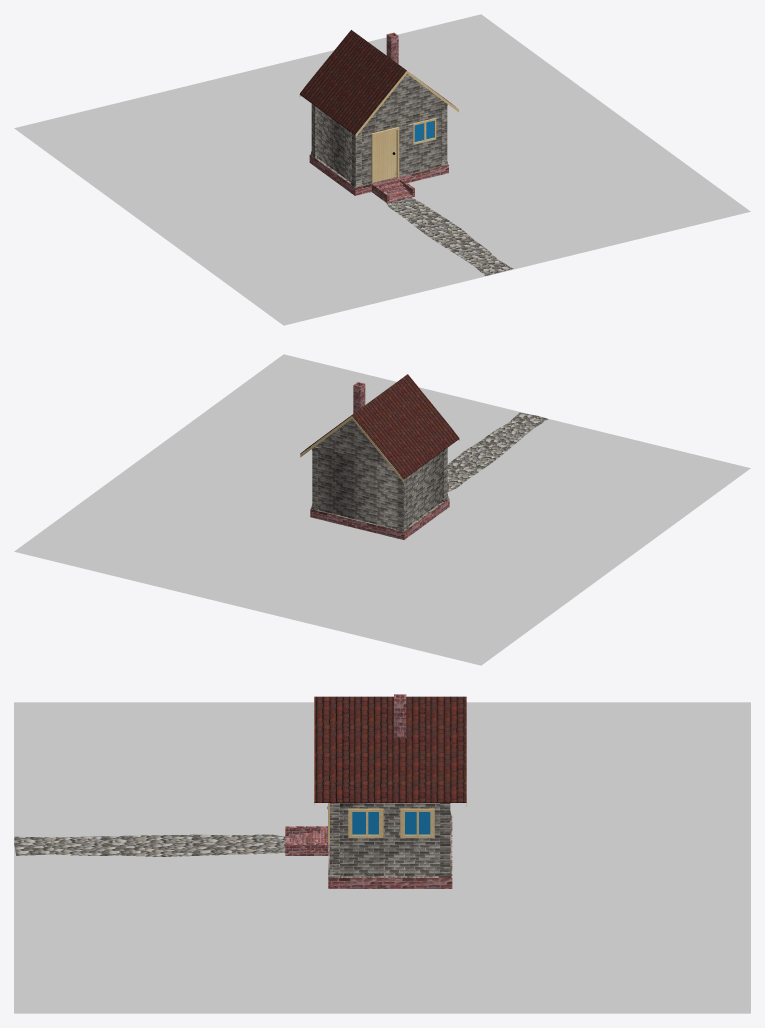
Rendered from house.FBX.
The picture shows the model from 3 angles, top to bottom: view 1: azimuth 30°, elevation 25°; view 2: azimuth 150°, elevation 25°; view 3: azimuth 270°, elevation 25°; orthographic projection. The views are drawn at different scales.
Visible parts, largest first — view 1: Plane004, Plane002, Box002, Object001; view 2: Plane004, Plane002, Box002, Object001; view 3: Plane004, Plane002, Object001, Box002.
Part boxes in pixels (x1,y1,x2,y2): Plane004: [14, 14, 750, 325]; Plane002: [299, 30, 455, 184]; Box002: [309, 102, 448, 203]; Object001: [387, 197, 513, 275]; Plane004: [14, 354, 750, 665]; Plane002: [300, 374, 459, 529]; Box002: [310, 445, 449, 539]; Object001: [447, 412, 548, 491]; Plane004: [14, 702, 750, 1013]; Plane002: [314, 694, 466, 876]; Object001: [14, 834, 285, 856]; Box002: [285, 803, 452, 888].
Bounding box in the file's own units: 2000 × 516 × 2000.
